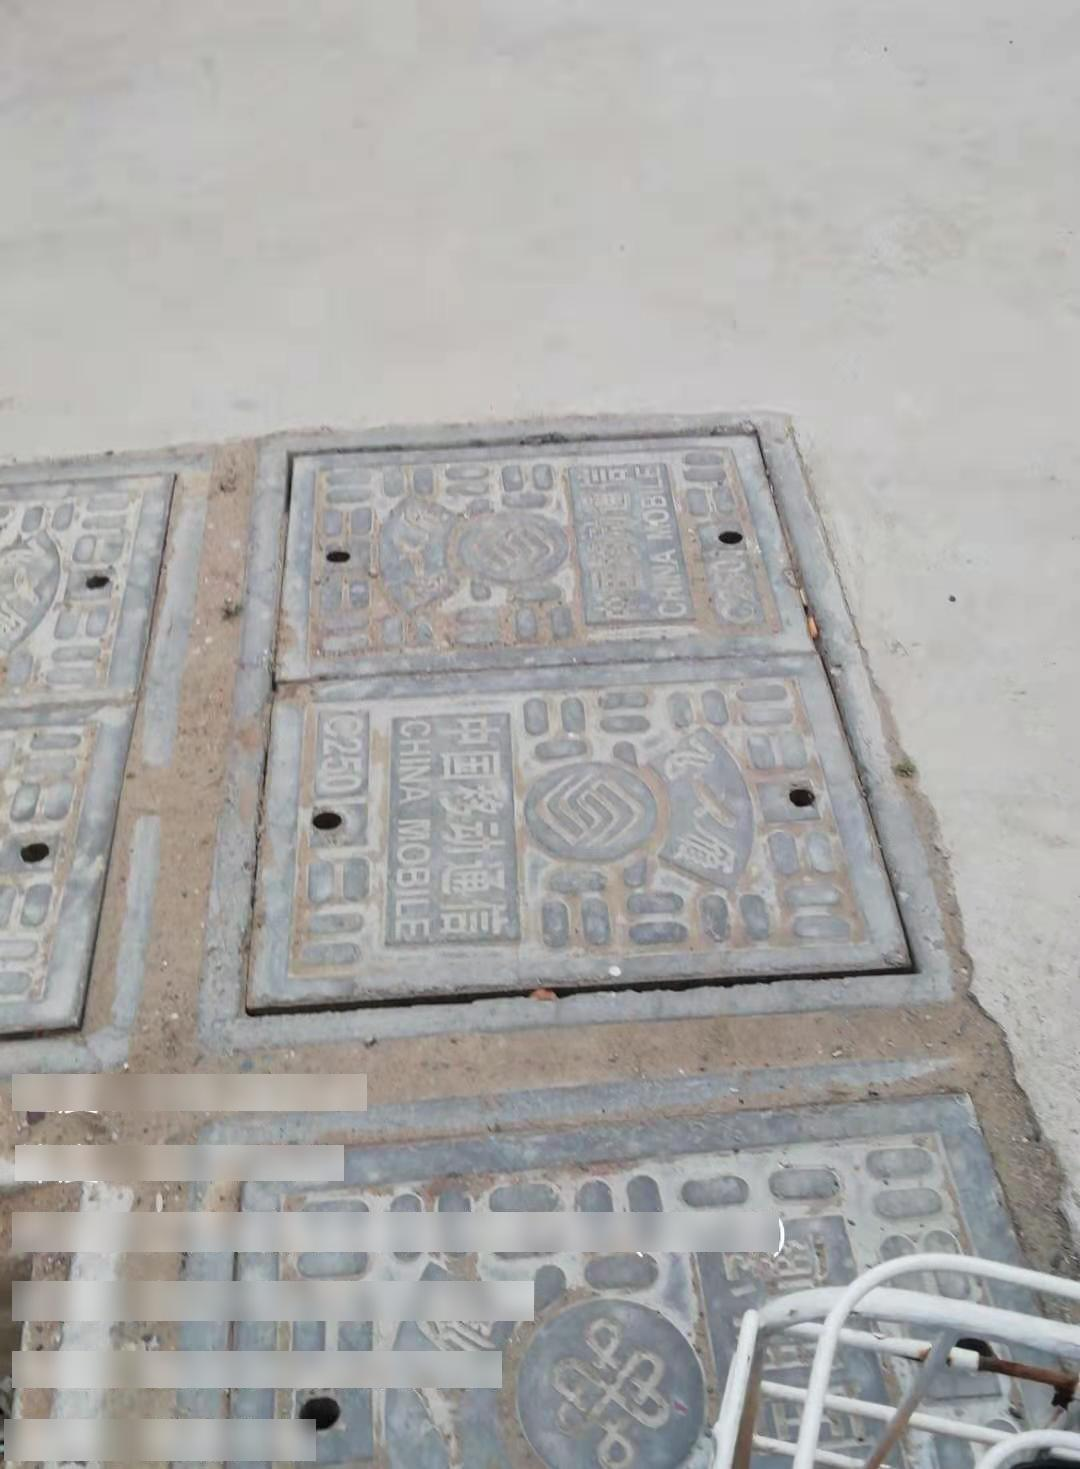wellcover: (195, 413, 990, 1065), (135, 1045, 1080, 1469)
